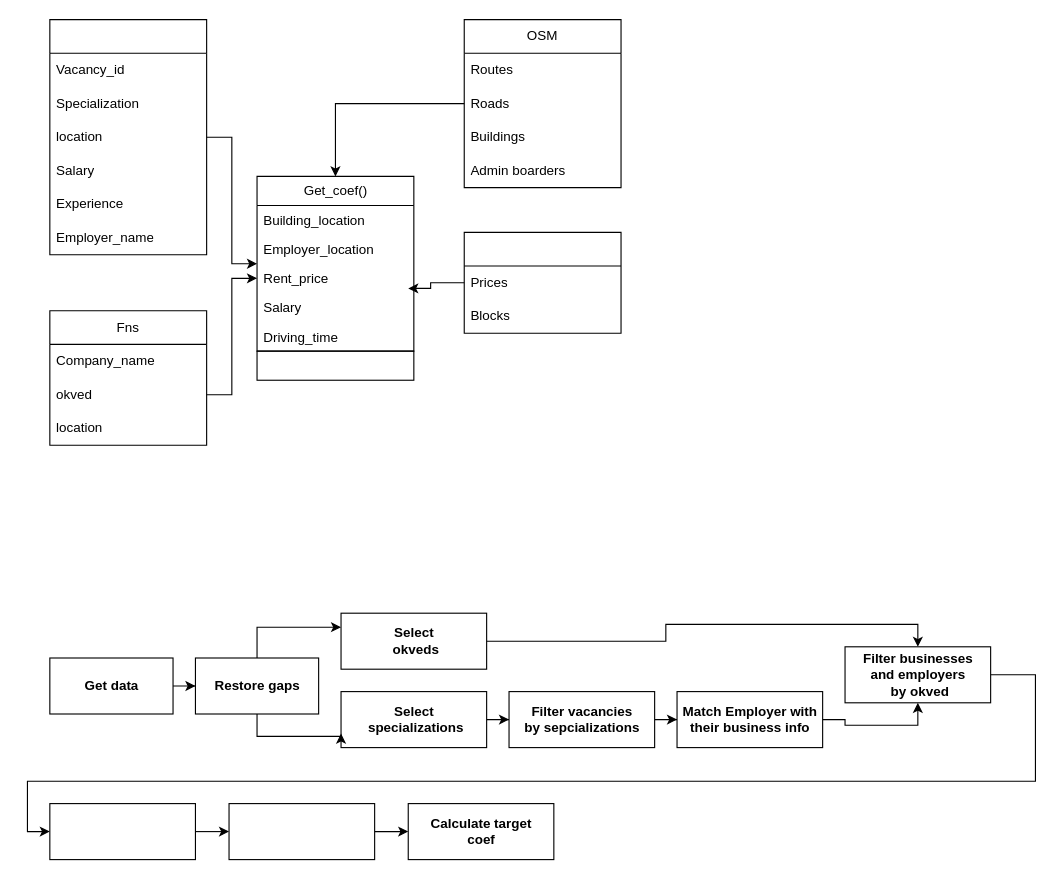
Image size: 1064x879. Some labels were removed from this diagram. Here are the shapes that lost their labels. From the top down, the box of each, then its label:
(49, 18, 207, 255): Hh_vacancy
(463, 231, 621, 333): Roseestr*
(256, 350, 414, 380): return: building_coef
(49, 802, 195, 860): Restore salary gaps for experience with median
(228, 802, 375, 860): Predict rent prices
